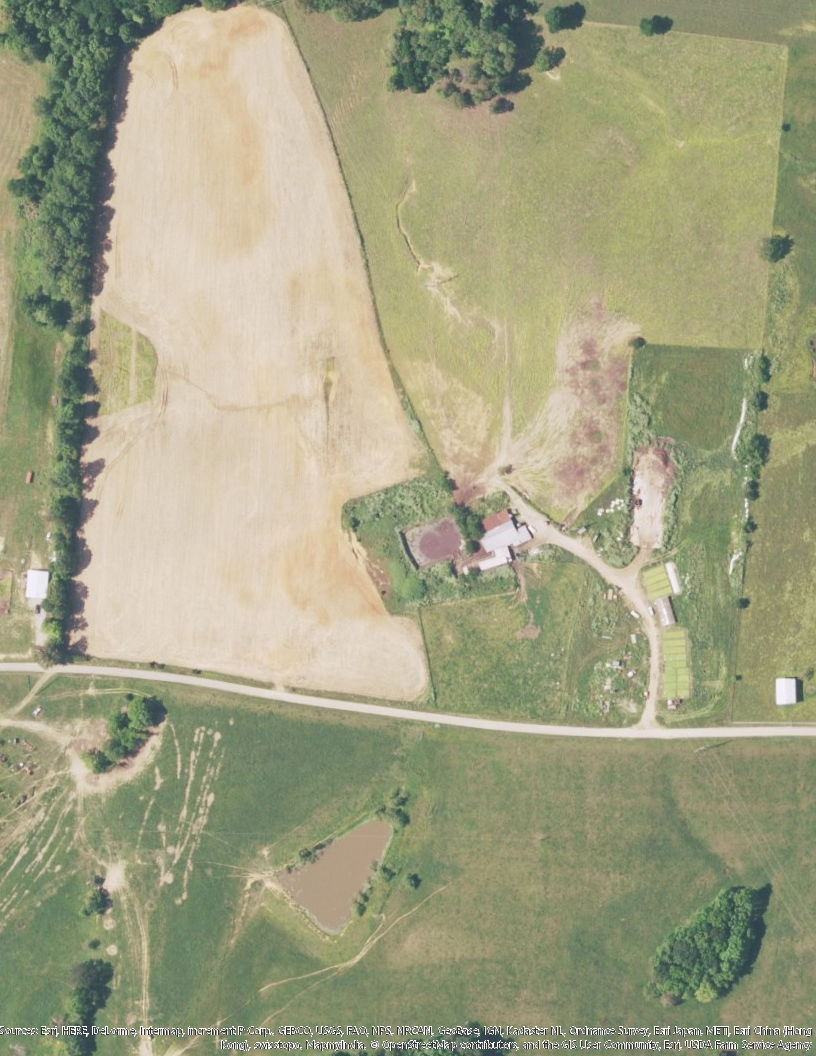cafo: (462, 516, 536, 577)
